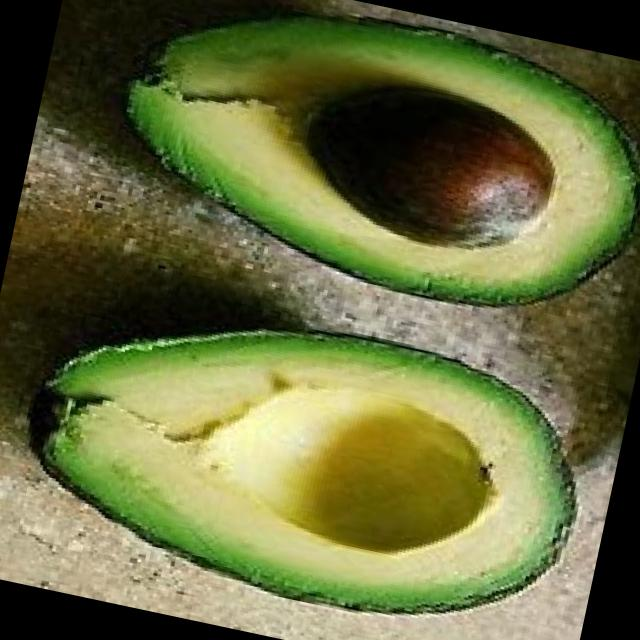avocado: (13, 268, 609, 640), (94, 0, 640, 344)
